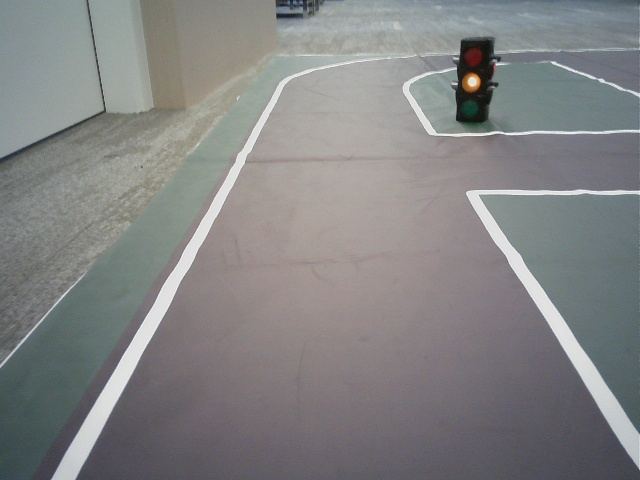yellow: (459, 44, 483, 118)
